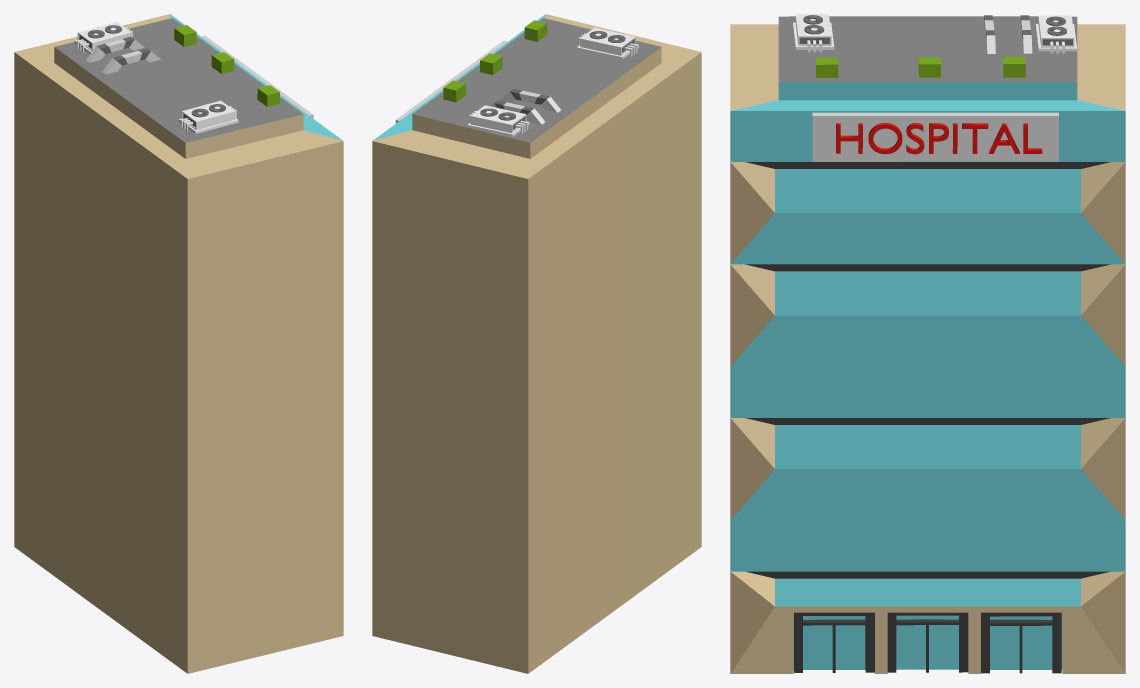
File: Hospital.glb
3 views of the same model, side by side, from view 1: azimuth 30°, elevation 25°; view 2: azimuth 150°, elevation 25°; view 3: azimuth 270°, elevation 25° (orthographic). The views are drawn at different scales.
Parts seen in each view (by area): view 1: Main_Body, Cube.066, Air conditioning.001, Cube.067, Cube.068, Cube.069, Cube.065; view 2: Main_Body, Cube.067, Cube.066, Air conditioning.001, Cube.069, Cube.065, Cube.068; view 3: Main_Body, Cube.065, Cube.064, Text.049, Air conditioning.001, Cube.067, Cube.066.
Part boxes in pixels (left/top/right/bottom): Main_Body: left=14, top=14, right=343, bottom=673; Cube.066: left=178, top=100, right=238, bottom=133; Air conditioning.001: left=174, top=25, right=279, bottom=106; Cube.067: left=74, top=22, right=132, bottom=53; Cube.068: left=86, top=36, right=144, bottom=62; Cube.069: left=102, top=48, right=160, bottom=74; Cube.065: left=201, top=35, right=313, bottom=118; Main_Body: left=372, top=14, right=701, bottom=673; Cube.067: left=467, top=105, right=529, bottom=136; Cube.066: left=576, top=28, right=638, bottom=59; Air conditioning.001: left=443, top=20, right=547, bottom=102; Cube.069: left=499, top=88, right=560, bottom=112; Cube.065: left=395, top=40, right=507, bottom=123; Cube.068: left=490, top=100, right=545, bottom=124; Main_Body: left=730, top=16, right=1125, bottom=673; Cube.065: left=812, top=112, right=1058, bottom=161; Cube.064: left=794, top=612, right=1061, bottom=673; Text.049: left=836, top=123, right=1042, bottom=154; Air conditioning.001: left=816, top=57, right=1025, bottom=77; Cube.067: left=1035, top=15, right=1076, bottom=53; Cube.066: left=793, top=14, right=834, bottom=52.
Bounding box in the file's own units: 0.2141 × 0.6466 × 0.389.
